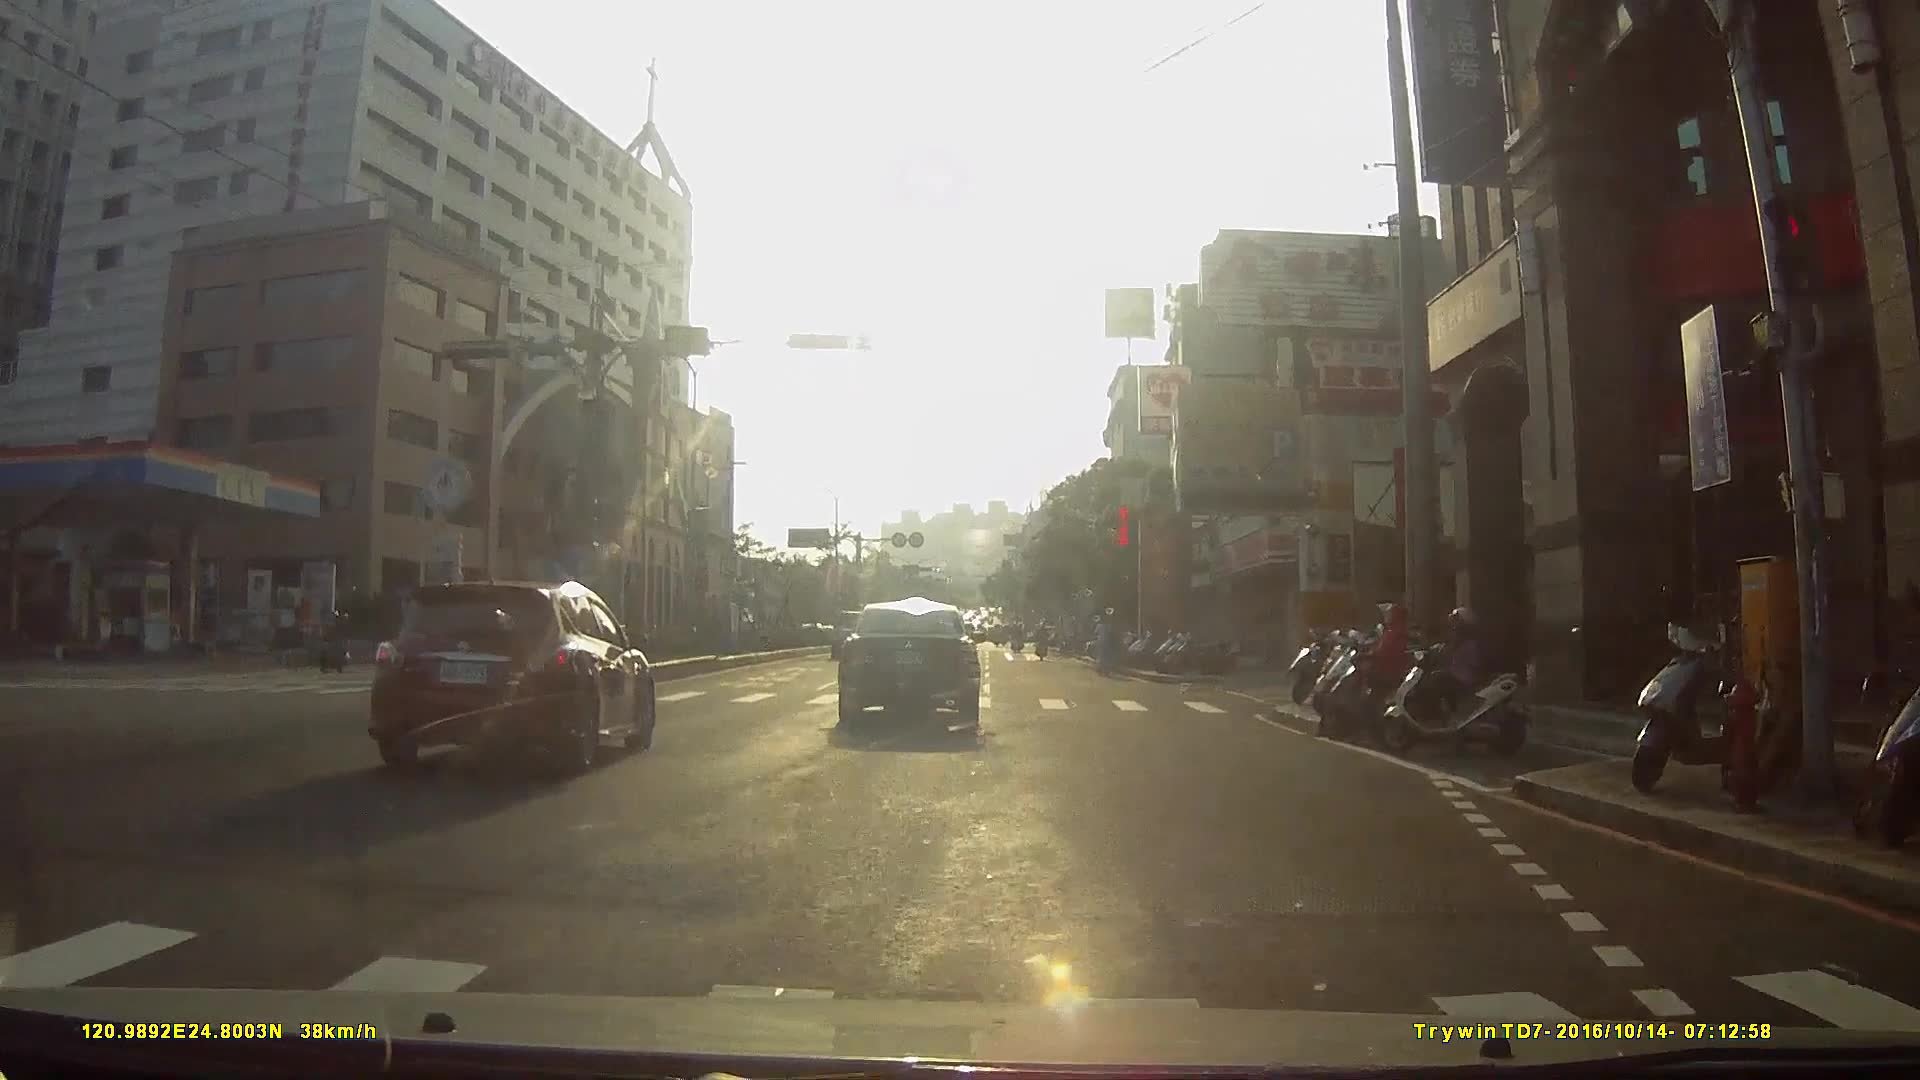rider: (1374, 600, 1536, 763), (1314, 601, 1441, 739), (315, 607, 358, 672), (1092, 613, 1120, 678)
vehicle: (369, 581, 665, 790), (842, 607, 1000, 745), (360, 595, 539, 690), (763, 607, 822, 662)
